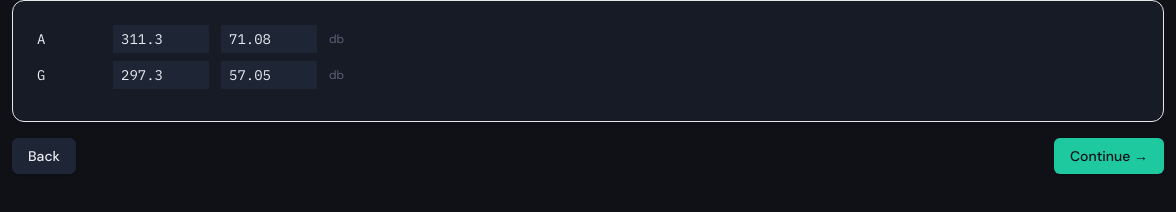
Test: Step2ResidueMW › does not advance to step 3 if a save fails, and shows an error message
Click the button "Continue →": (1109, 156) [1054,138,1164,174]
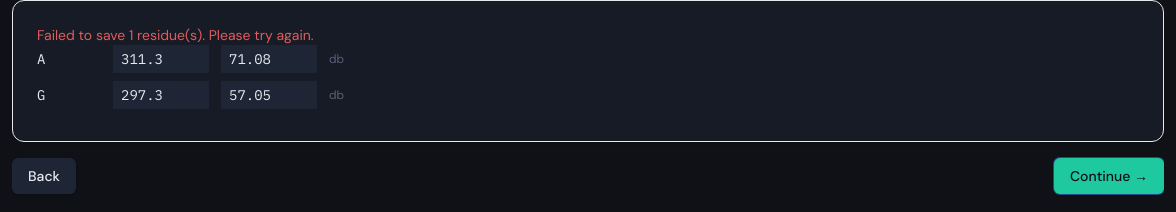
Expected: the text "Failed to save 1 residue(s). Please try again." is shown, [37,26,314,44]
